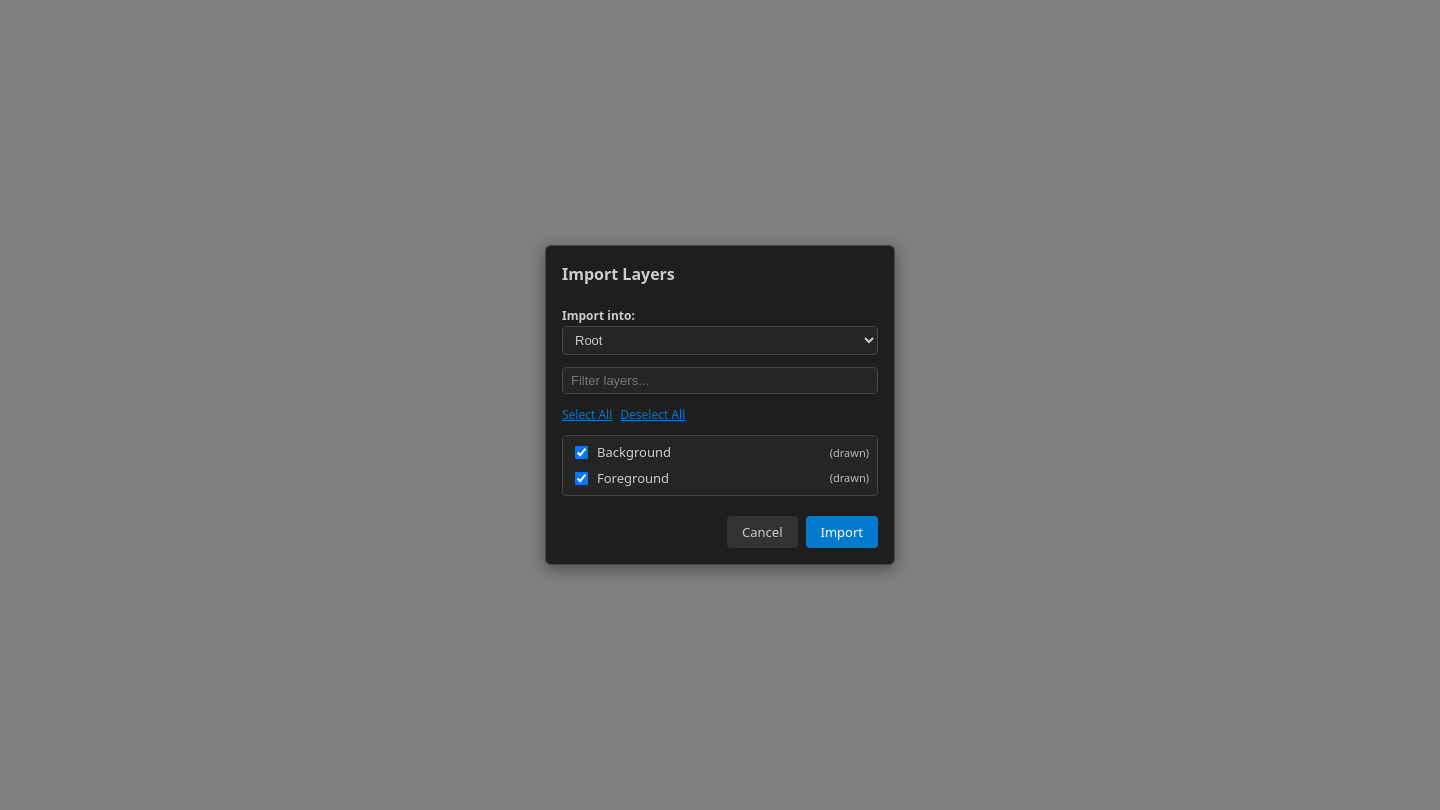
Scenario: ImportLayersDialog › filter input narrows visible layers
Type "back" into the field with test id "import-filter-input" at (720, 380), box x1=562 y1=367 x2=878 y2=394
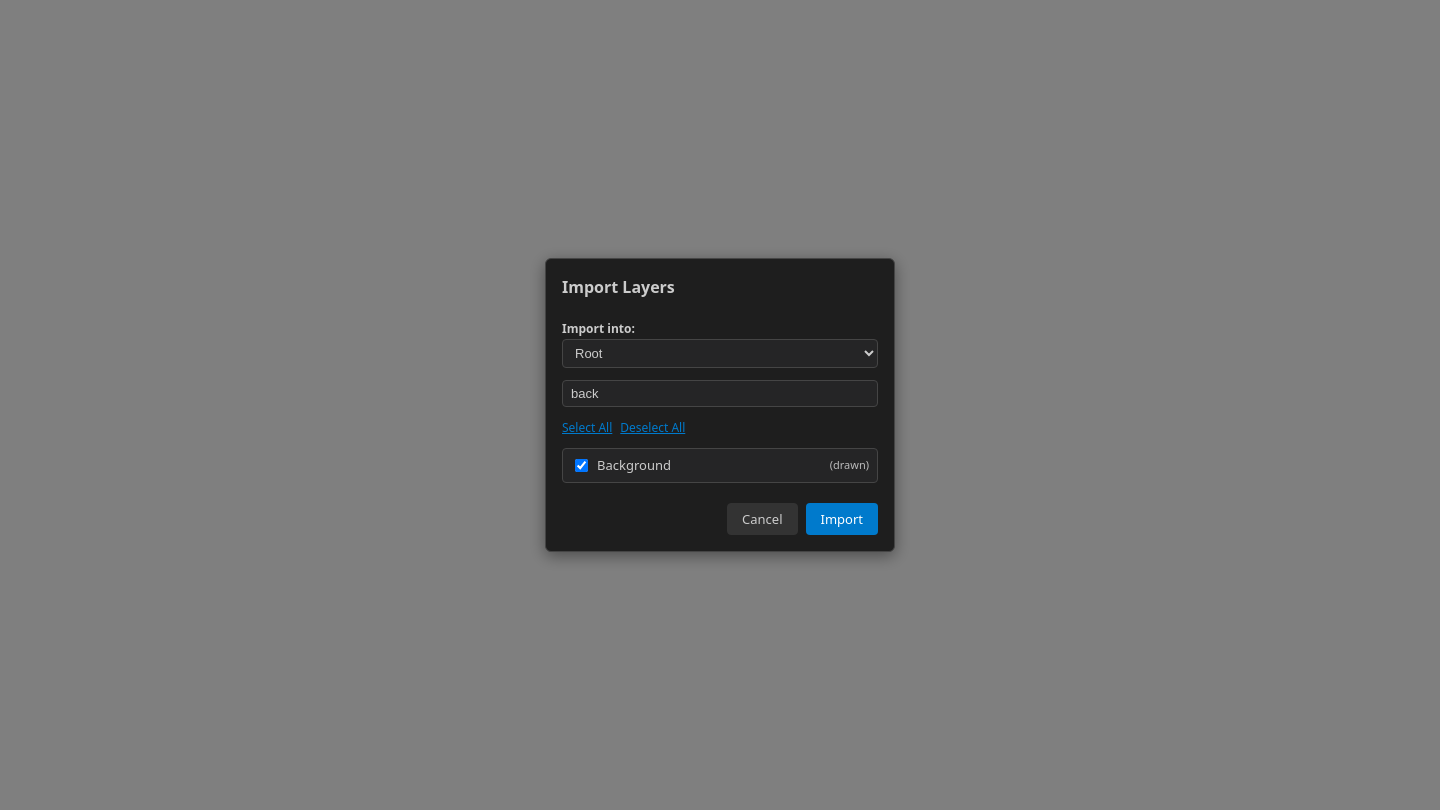
expect the text "Background" is shown: met, box x1=597 y1=456 x2=671 y2=475
expect the text "Foreground" is gone: met
